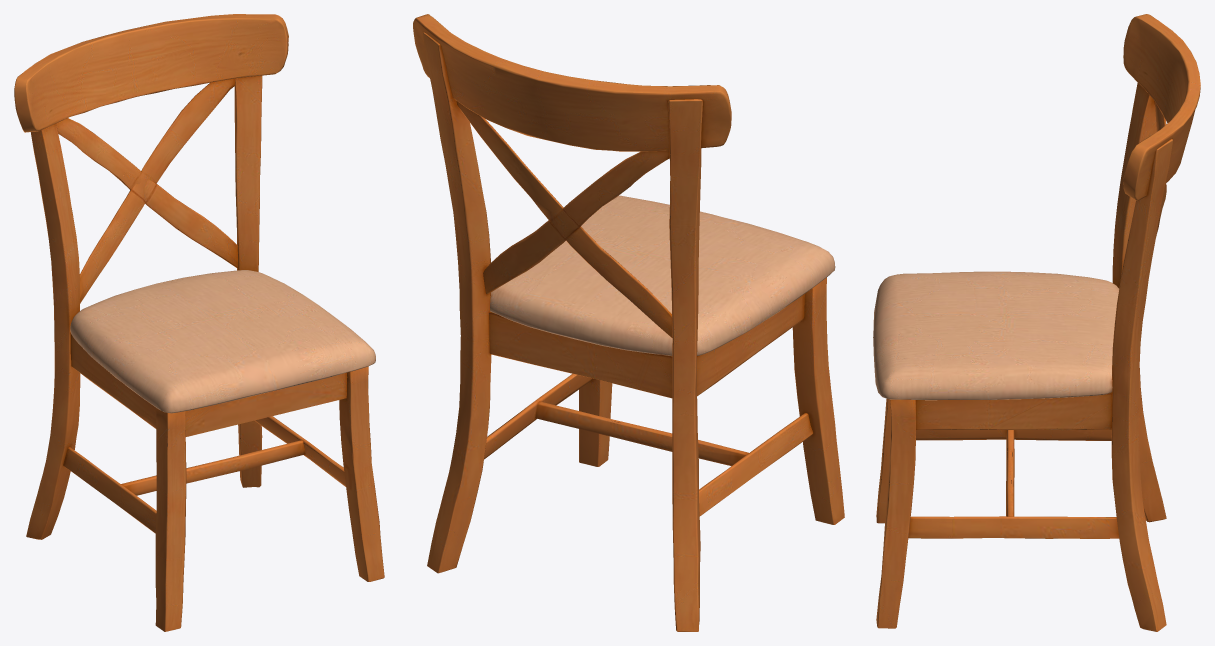
File: chair.cross.glb
3 renders of one model, left to right at view 1: azimuth 30°, elevation 25°; view 2: azimuth 150°, elevation 25°; view 3: azimuth 270°, elevation 25°, orthographic. The views are drawn at different scales.
Visible parts, largest first — view 1: geometry_0; view 2: geometry_0; view 3: geometry_0.
Boxes of the visible parts, x1,y1,x2,y2 form: geometry_0: (14, 14, 384, 631); geometry_0: (413, 14, 844, 631); geometry_0: (873, 14, 1200, 631).
Bounding box in the file's own units: 0.615 × 1 × 0.6046.
Materials: 1 (1 with a texture image).
